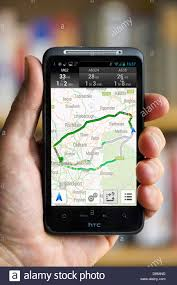htc: (38, 39, 150, 237)
